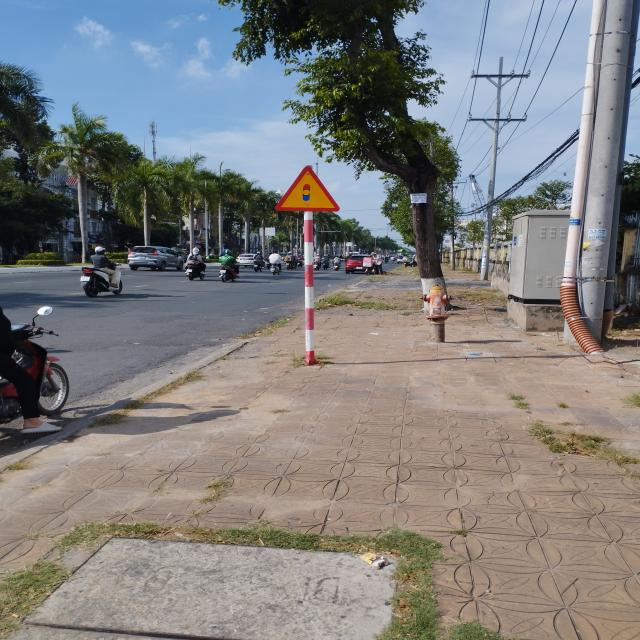Duong_Co_Go_Giam_Toc: (275, 166, 339, 212)
